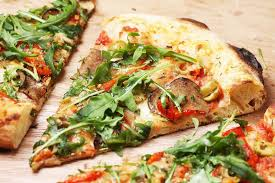pizza: (29, 18, 268, 158)
